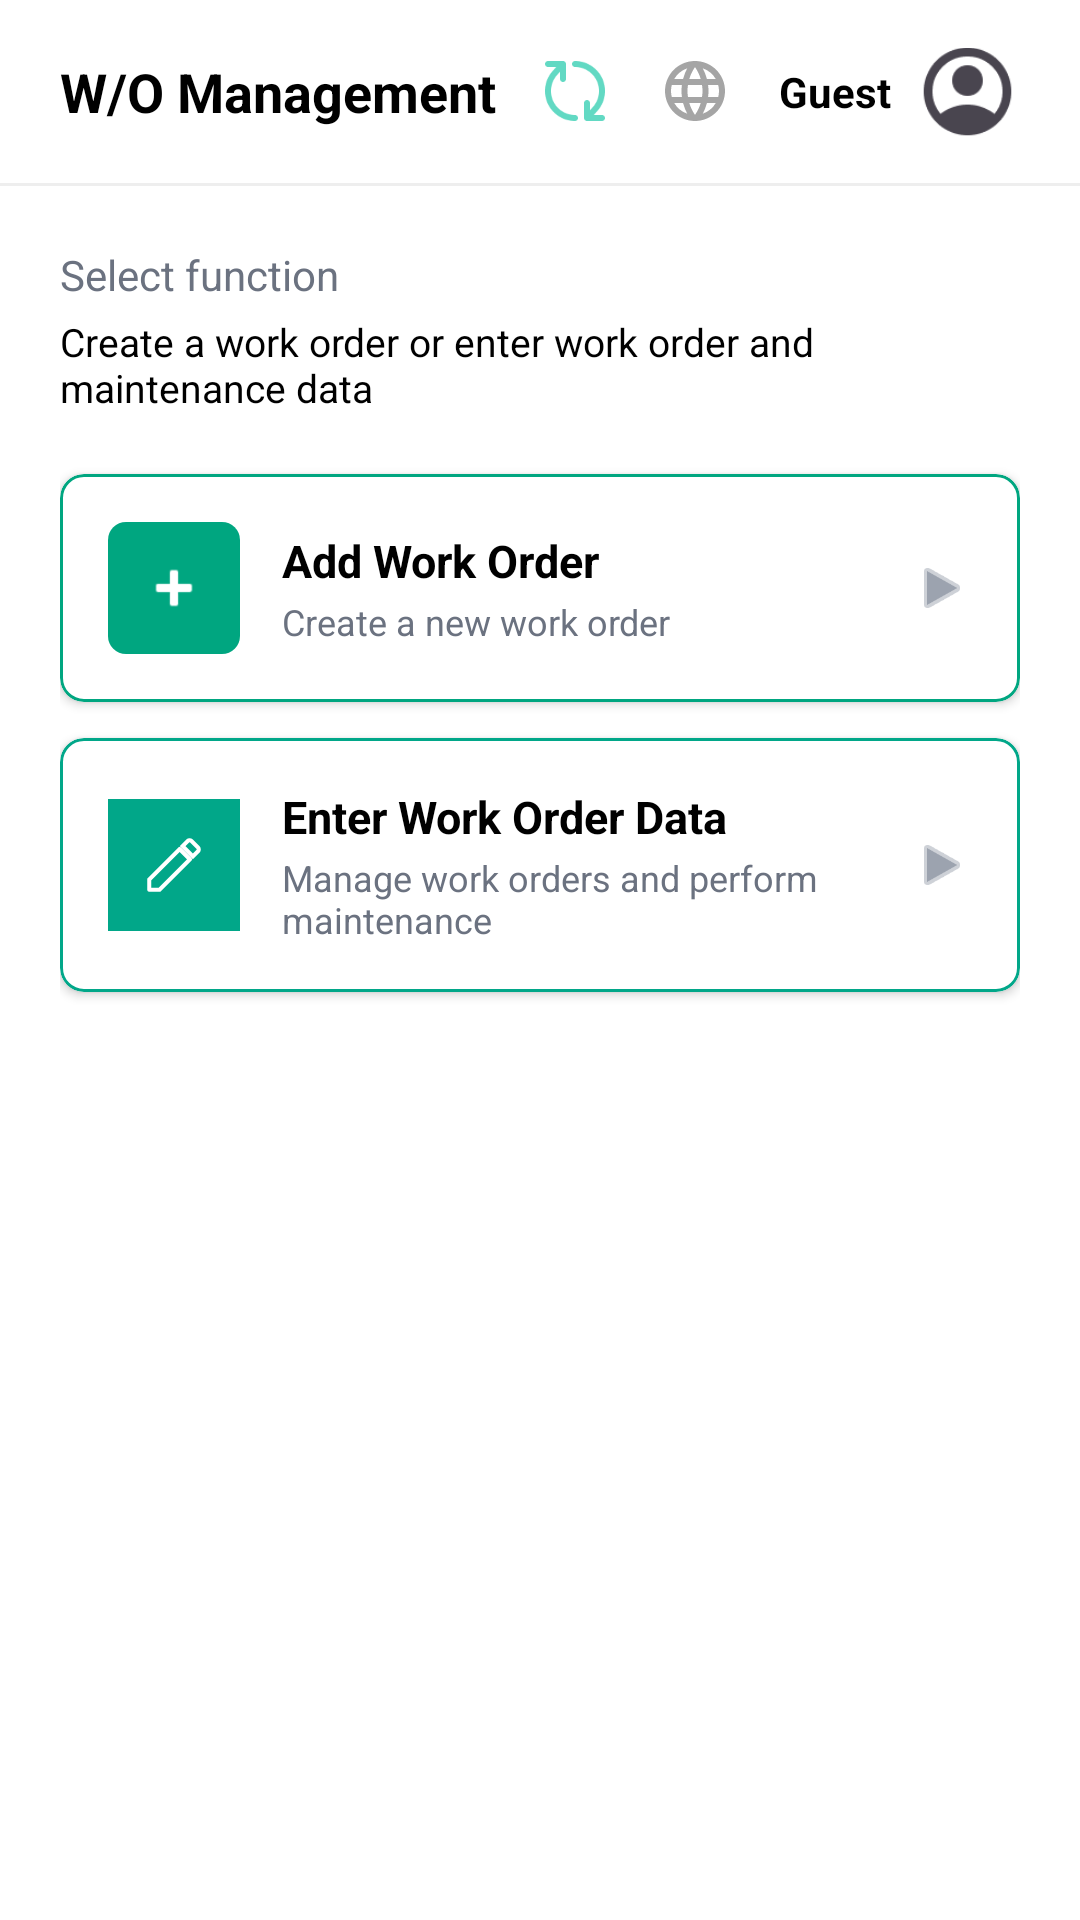

Icons on this 1080px×1920px Android screen, each with the point to tap as point (x, y):
language: point (695, 91)
pencil: point (174, 865)
play: point (942, 588), point (942, 865)
refresh cw: point (575, 91)
user: point (967, 92)
